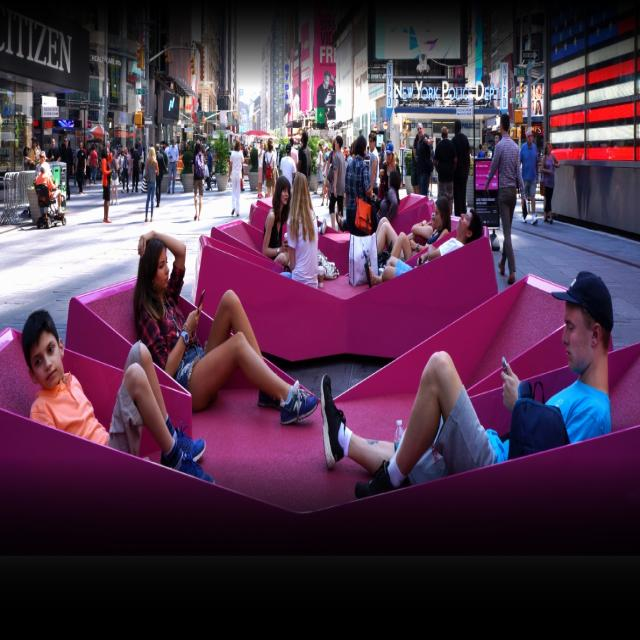body: (318, 264, 615, 510), (131, 228, 321, 428), (20, 304, 217, 486), (364, 194, 454, 292), (381, 207, 483, 283), (483, 111, 527, 287), (567, 122, 622, 228), (334, 167, 402, 237), (279, 171, 319, 289), (362, 208, 438, 264), (344, 134, 373, 237), (262, 174, 292, 268), (433, 125, 456, 217), (450, 119, 471, 217), (538, 141, 562, 224), (519, 130, 539, 226), (34, 162, 67, 220), (328, 135, 346, 234), (412, 120, 432, 197), (412, 23, 456, 58), (366, 130, 380, 235), (227, 137, 245, 216), (378, 141, 402, 199), (143, 145, 160, 223), (35, 149, 53, 219), (191, 139, 206, 222), (315, 69, 336, 122), (100, 145, 113, 224), (298, 129, 312, 191), (280, 143, 296, 196), (61, 136, 74, 201), (325, 136, 337, 201), (166, 138, 179, 195), (264, 138, 276, 198), (75, 140, 87, 196), (313, 142, 325, 198), (425, 138, 436, 198), (411, 132, 421, 196), (320, 152, 331, 208), (110, 148, 120, 207), (130, 141, 141, 194), (120, 147, 131, 195), (285, 136, 299, 172), (257, 138, 265, 199), (88, 142, 99, 186), (81, 145, 92, 188), (342, 139, 358, 168), (104, 139, 113, 188), (28, 135, 40, 170), (530, 83, 543, 115), (204, 146, 213, 192), (46, 136, 61, 162), (115, 146, 125, 184), (378, 141, 387, 183), (126, 146, 135, 188), (272, 141, 281, 182), (22, 145, 36, 170), (159, 138, 169, 172), (73, 144, 80, 187), (14, 219, 37, 231), (292, 86, 300, 120), (490, 132, 500, 159), (174, 137, 189, 153), (240, 143, 252, 157), (455, 67, 463, 87), (138, 139, 144, 164), (476, 142, 485, 158), (492, 114, 500, 128), (147, 139, 154, 153), (199, 139, 206, 153), (516, 94, 522, 110), (292, 140, 302, 149), (322, 142, 330, 152), (365, 145, 370, 156), (483, 149, 488, 158), (263, 143, 267, 151), (169, 138, 172, 145)
